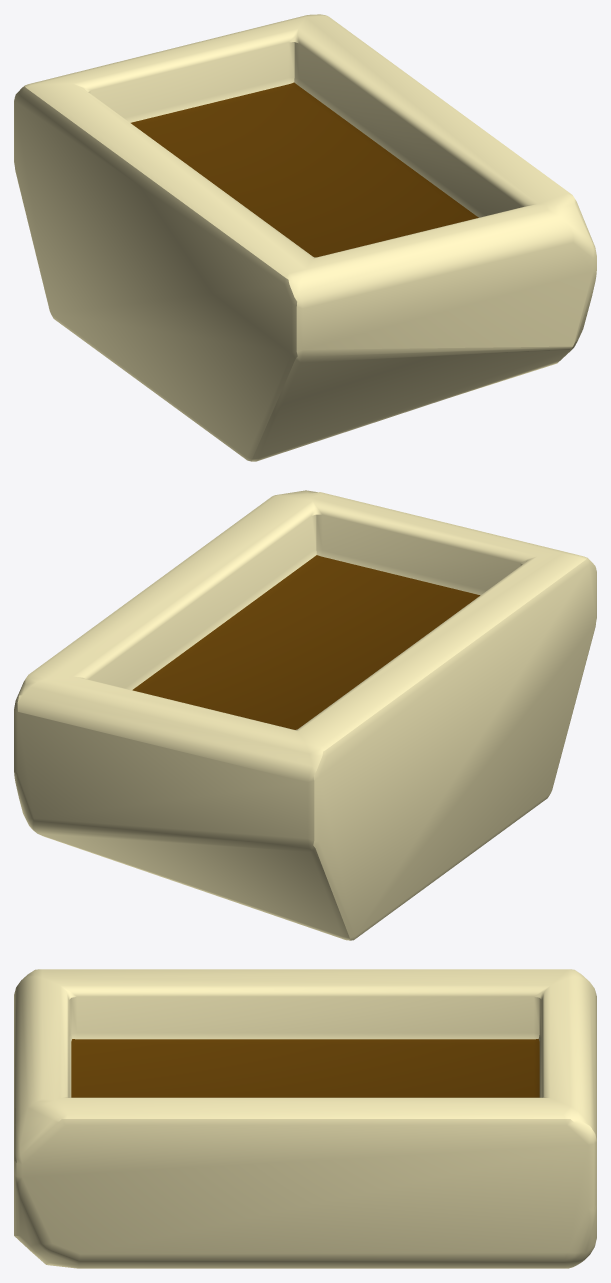
File: Module_Window_Planter_Short_02.fbx
3 renders of one model, top to bottom at view 1: azimuth 30°, elevation 25°; view 2: azimuth 150°, elevation 25°; view 3: azimuth 270°, elevation 25°, orthographic. The views are drawn at different scales.
Parts seen in each view (by area): view 1: Module_Window_Planter_Short_02_Geometry; view 2: Module_Window_Planter_Short_02_Geometry; view 3: Module_Window_Planter_Short_02_Geometry.
Part boxes in pixels (<box>): Module_Window_Planter_Short_02_Geometry: <box>14,14,596,461</box>; Module_Window_Planter_Short_02_Geometry: <box>14,490,596,940</box>; Module_Window_Planter_Short_02_Geometry: <box>14,969,596,1268</box>.
Size of the model in its own units: 0.6558 by 0.4408 by 1.06.
